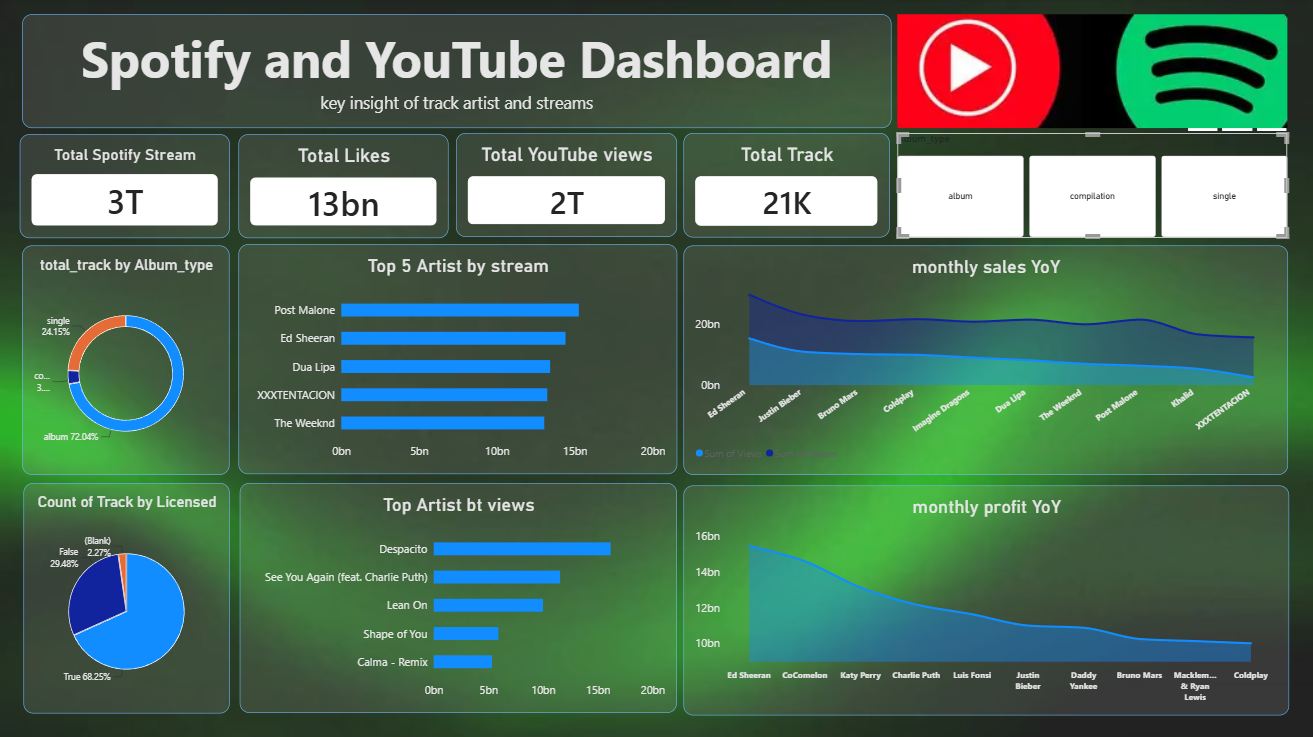

Layout of this report page (visuals, bound fields, positions):
{"tool":"powerbi","page":{"name":"Page 1","canvas":[1920,1080],"ordinal":0},"visuals":[{"type":"clusteredBarChart","title":"Top Artist bt views","fields":{"Category":["Spotify_Youtube.Track"],"Y":["Sum(Spotify_Youtube.Views)"]},"box":[353,703,633,333],"z":0},{"type":"stackedAreaChart","title":"monthly sales YoY","fields":{"Category":["Spotify_Youtube.Artist"],"Y":["Sum(Spotify_Youtube.Views)","Sum(Spotify_Youtube.Stream)"]},"box":[996,359,875,332],"z":1000},{"type":"stackedAreaChart","title":"monthly profit YoY","fields":{"Category":["Spotify_Youtube.Artist"],"Y":["Sum(Spotify_Youtube.Views)"]},"box":[996,705,877,333],"z":2000},{"type":"donutChart","fields":{"Series":["Spotify_Youtube.Album_type"],"Y":["Spotify_Youtube.total_track"]},"box":[38,358,300,332],"z":3000},{"type":"pieChart","fields":{"Category":["Spotify_Youtube.Licensed"],"Y":["CountNonNull(Spotify_Youtube.Track)"]},"box":[39.1,701.9,298.5,333.4],"z":4000},{"type":"textbox","box":[37.3,22.7,1258.2,164.5],"z":5000},{"type":"cardVisual","title":"Total Spotify Stream ","fields":{"Data":["Sum(Spotify_Youtube.Stream)"]},"box":[34.5,196.4,304,150],"z":6000},{"type":"cardVisual","title":"Total Likes","fields":{"Data":["Sum(Spotify_Youtube.Likes)"]},"box":[351.8,196.4,304,150],"z":7000},{"type":"cardVisual","title":"Total YouTube views","fields":{"Data":["Sum(Spotify_Youtube.Views)"]},"box":[665.7,195.7,320,150],"z":8000},{"type":"cardVisual","title":"Total Track","fields":{"Data":["Spotify_Youtube.total_track"]},"box":[995.7,195.7,298.6,151.4],"z":9000},{"type":"clusteredBarChart","title":"Top 5 Artist by stream","fields":{"Category":["Spotify_Youtube.Artist"],"Y":["Sum(Spotify_Youtube.Stream)"]},"box":[351,357,635,333],"z":10000},{"type":"advancedSlicerVisual","fields":{"Values":["Spotify_Youtube.Album_type"]},"box":[1305,196,565,151],"z":12000},{"type":"image","box":[1305,23,565,165],"z":12001}]}

Visuals, with their boxes in screenshot pixels (x1, y1, x2, y2), scaled from the page's 1920x1080 canvas onto the 1313x737 screenshot:
"Top Artist bt views" clusteredBarChart: {"x1": 241, "y1": 480, "x2": 674, "y2": 707}
"monthly sales YoY" stackedAreaChart: {"x1": 681, "y1": 245, "x2": 1279, "y2": 472}
"monthly profit YoY" stackedAreaChart: {"x1": 681, "y1": 481, "x2": 1281, "y2": 708}
donutChart - Spotify_Youtube.Album_type x Spotify_Youtube.total_track: {"x1": 26, "y1": 244, "x2": 231, "y2": 471}
pieChart - Spotify_Youtube.Licensed x CountNonNull(Spotify_Youtube.Track): {"x1": 27, "y1": 479, "x2": 231, "y2": 706}
textbox: {"x1": 26, "y1": 15, "x2": 886, "y2": 128}
"Total Spotify Stream " cardVisual: {"x1": 24, "y1": 134, "x2": 231, "y2": 236}
"Total Likes" cardVisual: {"x1": 241, "y1": 134, "x2": 448, "y2": 236}
"Total YouTube views" cardVisual: {"x1": 455, "y1": 134, "x2": 674, "y2": 236}
"Total Track" cardVisual: {"x1": 681, "y1": 134, "x2": 885, "y2": 237}
"Top 5 Artist by stream" clusteredBarChart: {"x1": 240, "y1": 244, "x2": 674, "y2": 471}
advancedSlicerVisual - Spotify_Youtube.Album_type: {"x1": 892, "y1": 134, "x2": 1279, "y2": 237}
image: {"x1": 892, "y1": 16, "x2": 1279, "y2": 128}
